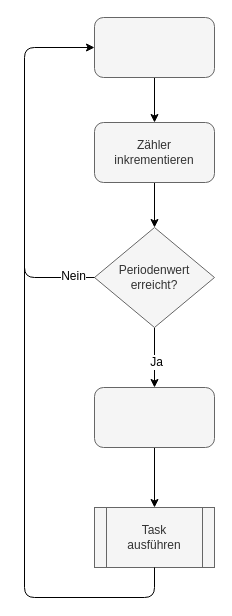
This 232x616 diagram has some shape labels left out. Each missing label, with the box of its shape:
warte 1ms: (94, 16, 214, 78)
Zähler zurücksetzen: (94, 386, 214, 448)
